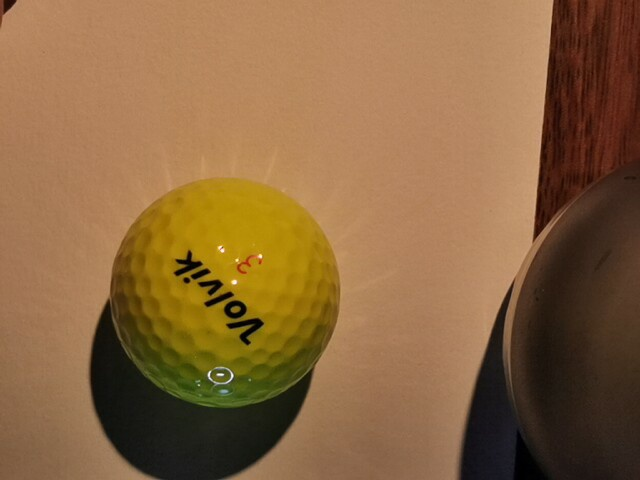Ball: (110, 176, 341, 410)
Volvik: (173, 249, 265, 346)
